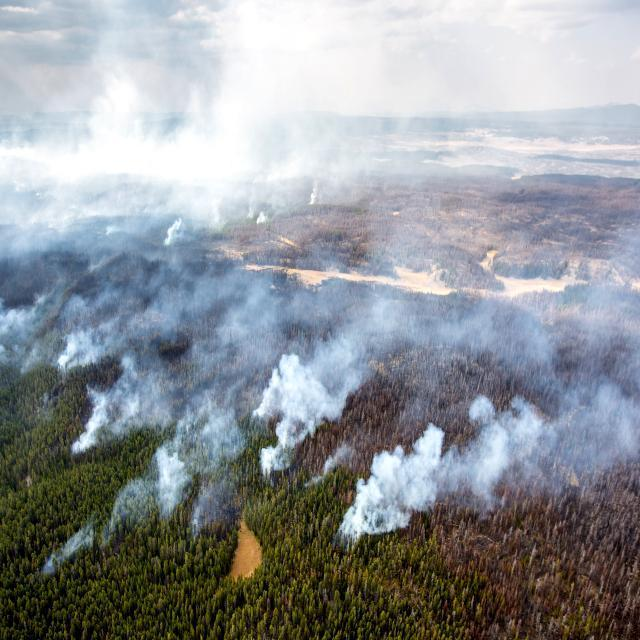Smoke: (8, 186, 430, 508), (355, 387, 638, 540)
